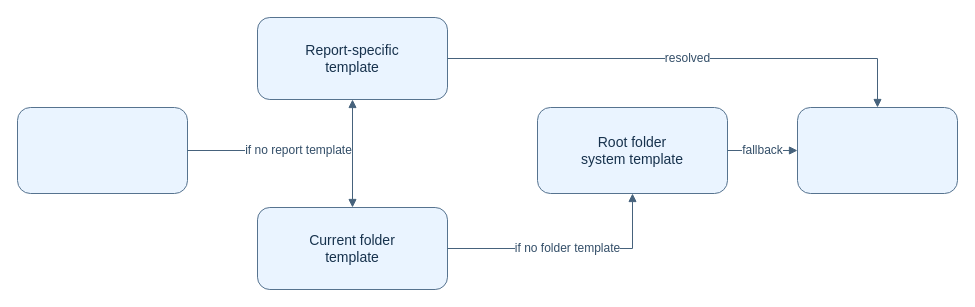
The diagram is 975 pixels wide and 307 high, and some of its shapes have lost their labels. The shapes that lost their labels are listed below. From the top down, each one's box as (x1, y1, x2, y2) in pixels, then its label:
(16, 106, 188, 194): Selected report Resources > Reports
(796, 106, 958, 194): PDF renderer Preview / Export
